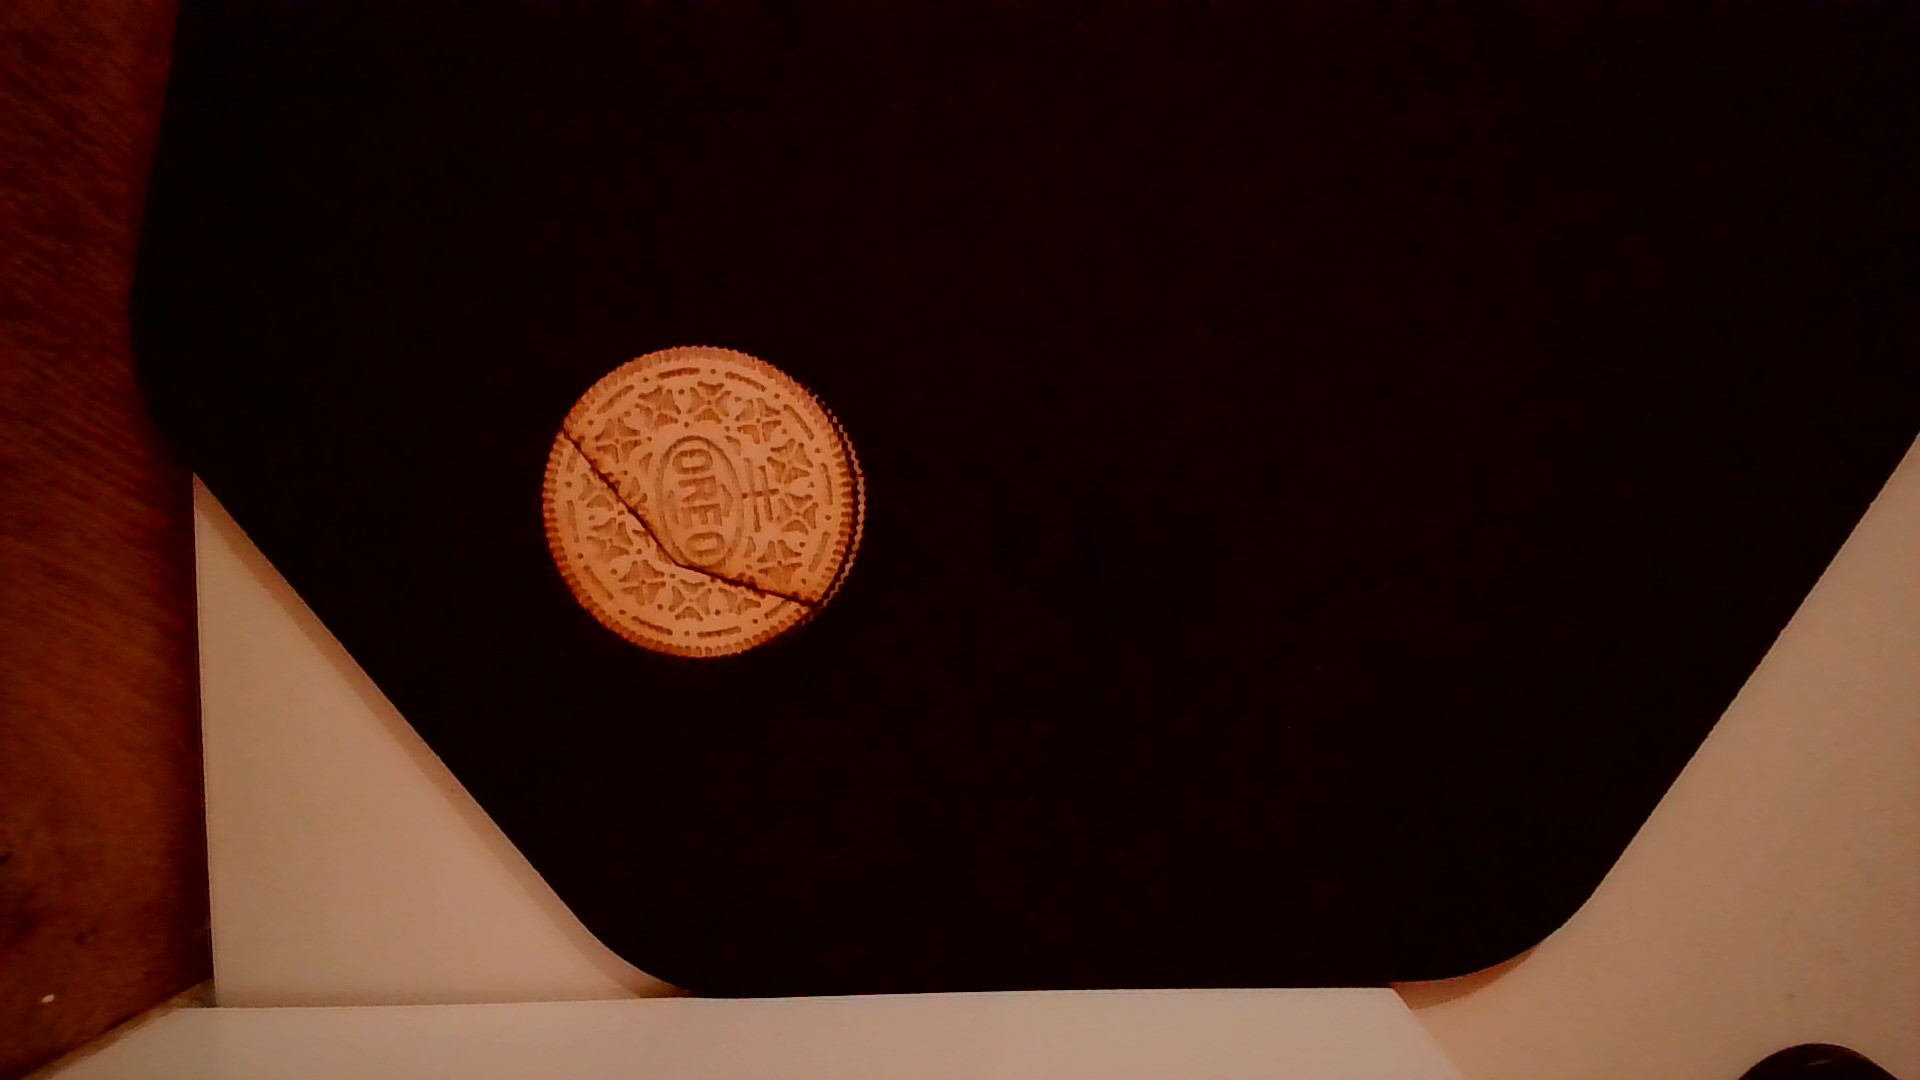Fissure: (551, 413, 843, 620)
Oréo: (526, 334, 870, 665)
